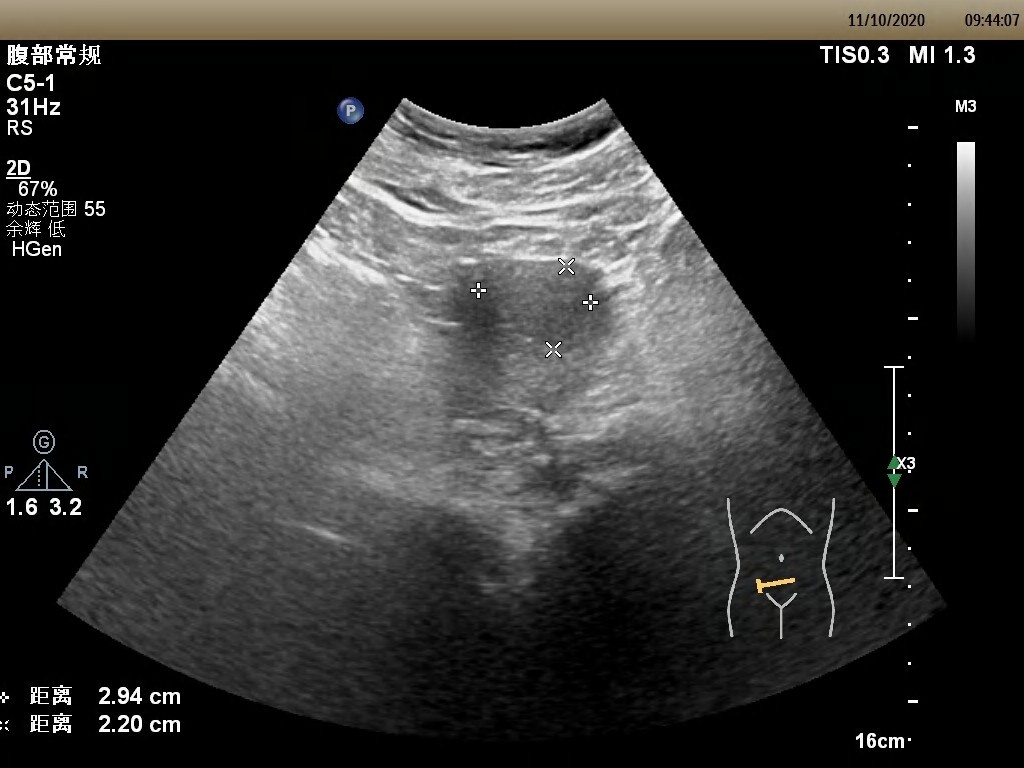肌瘤: (479, 268, 593, 350)
